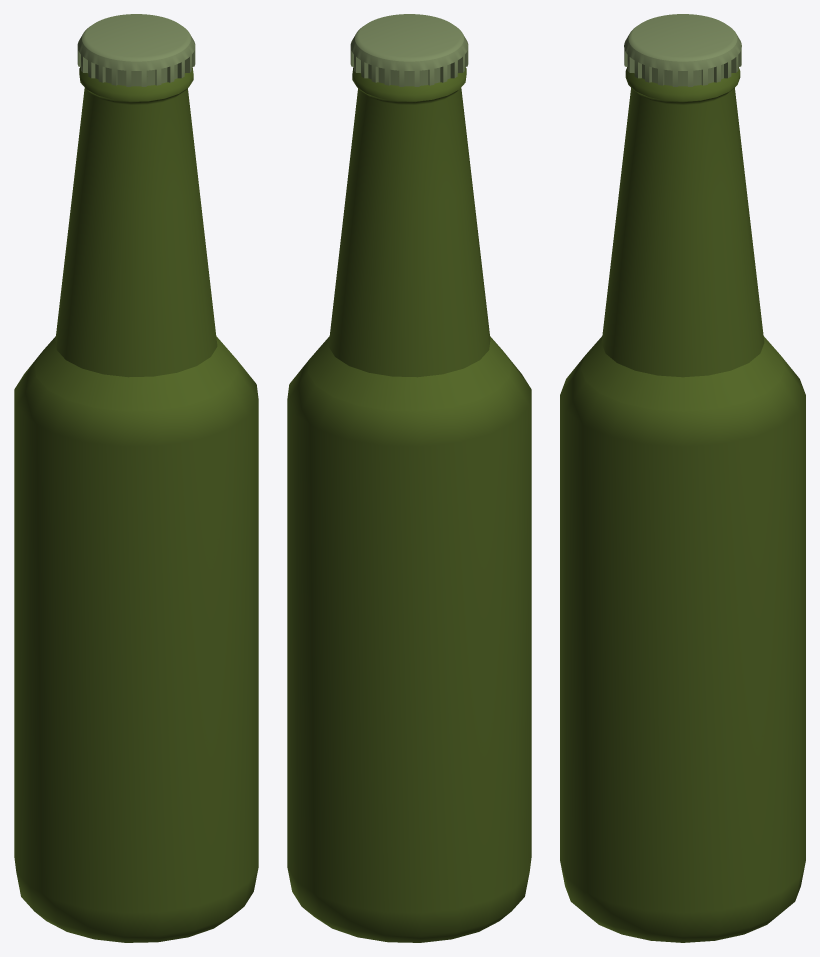
The model's file is beer_bottle2.fbx.
3 views of the same model, side by side, from view 1: azimuth 30°, elevation 25°; view 2: azimuth 150°, elevation 25°; view 3: azimuth 270°, elevation 25° (orthographic).
Visible parts, largest first — view 1: pCylinder5, pCylinder4; view 2: pCylinder5, pCylinder4; view 3: pCylinder5, pCylinder4.
Boxes of the visible parts, <box> form: pCylinder5: <box>14,67,258,942</box>; pCylinder4: <box>77,14,195,86</box>; pCylinder5: <box>287,67,531,942</box>; pCylinder4: <box>350,14,468,86</box>; pCylinder5: <box>560,67,805,942</box>; pCylinder4: <box>624,14,741,86</box>.
Bounding box in the file's own units: 1.6 × 6.25 × 1.6.
